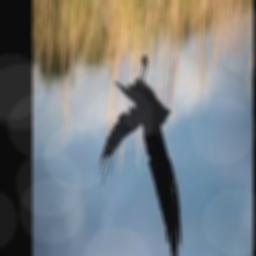Crow: (97, 52, 182, 256)
